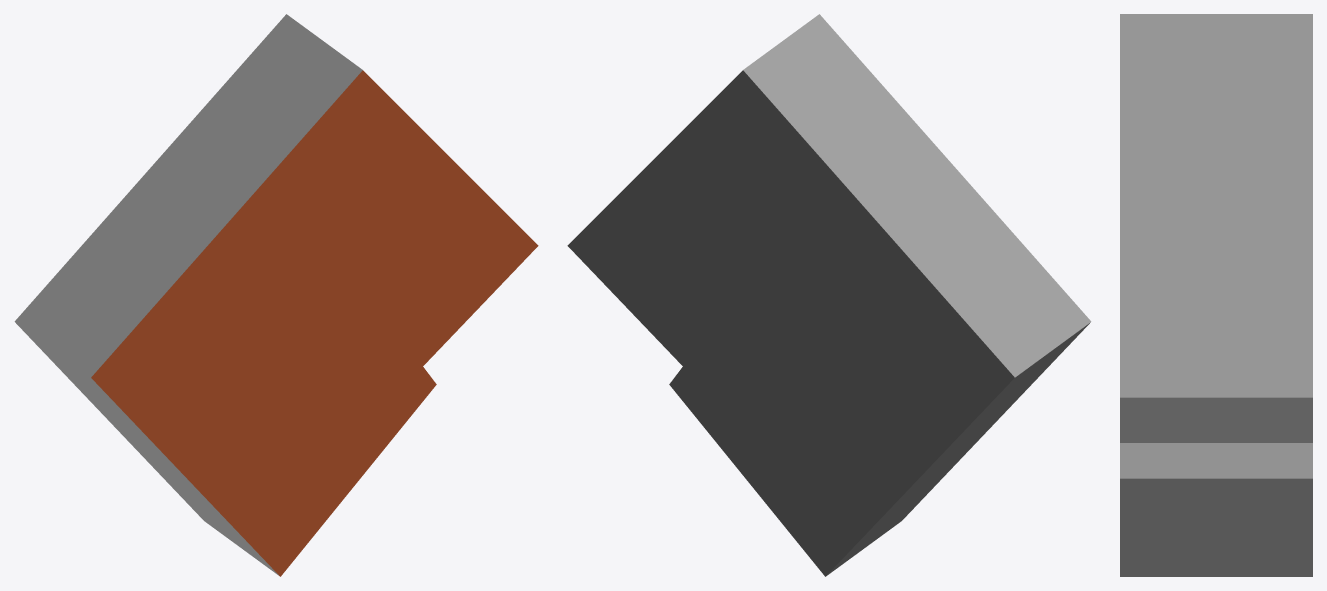
File: construction_3914_assumed_A_Casa_h6m.obj
3 renders of one model, left to right at view 1: azimuth 30°, elevation 25°; view 2: azimuth 150°, elevation 25°; view 3: azimuth 270°, elevation 25°, orthographic. The views are drawn at different scales.
Parts seen in each view (by area): view 1: construction_3914_assumed_A_Casa; view 2: construction_3914_assumed_A_Casa; view 3: construction_3914_assumed_A_Casa.
Part boxes in pixels (x1,y1,x2,y2): construction_3914_assumed_A_Casa: (14, 14, 538, 576); construction_3914_assumed_A_Casa: (567, 14, 1091, 576); construction_3914_assumed_A_Casa: (1120, 14, 1312, 576).
Bounding box in the file's own units: 20.26 × 21.06 × 6.
